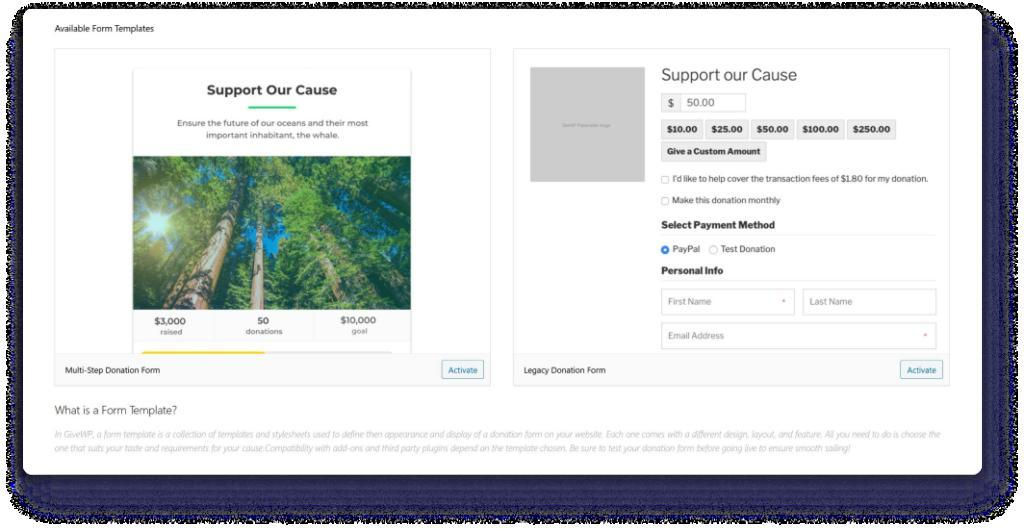button: (662, 143, 767, 164), (798, 121, 846, 141), (848, 121, 897, 140), (442, 361, 485, 381), (902, 360, 945, 379), (706, 120, 749, 139), (752, 120, 795, 139), (662, 121, 704, 139)
checkbox: (661, 176, 671, 185), (662, 198, 671, 208)
input: (661, 322, 936, 351), (661, 288, 797, 316), (804, 290, 937, 315), (663, 95, 747, 114)
label: (672, 174, 930, 188), (672, 197, 782, 208), (721, 244, 777, 255), (674, 245, 702, 254)
radio: (661, 246, 673, 257), (710, 246, 720, 257)
